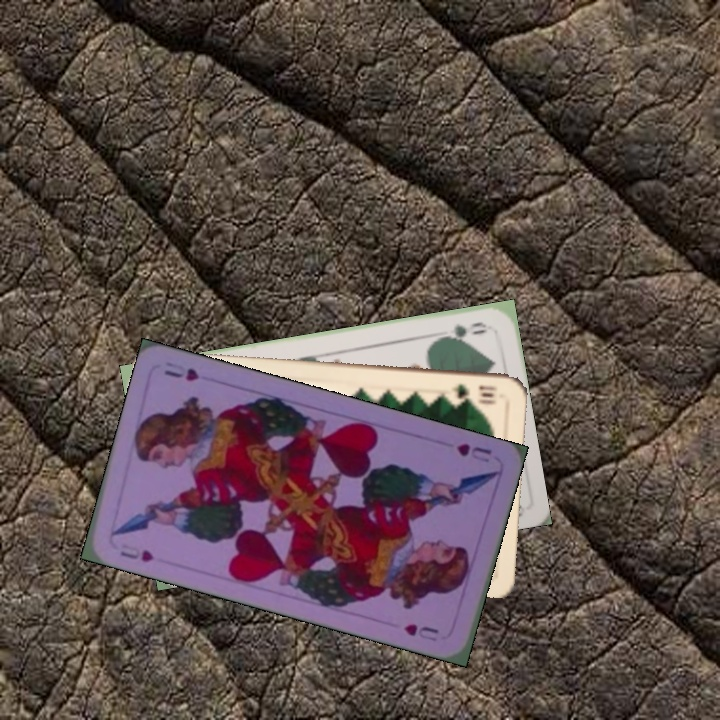G10: (448, 380, 500, 405)
GO: (434, 317, 490, 343)
HU: (452, 439, 494, 466), (116, 539, 157, 565)
